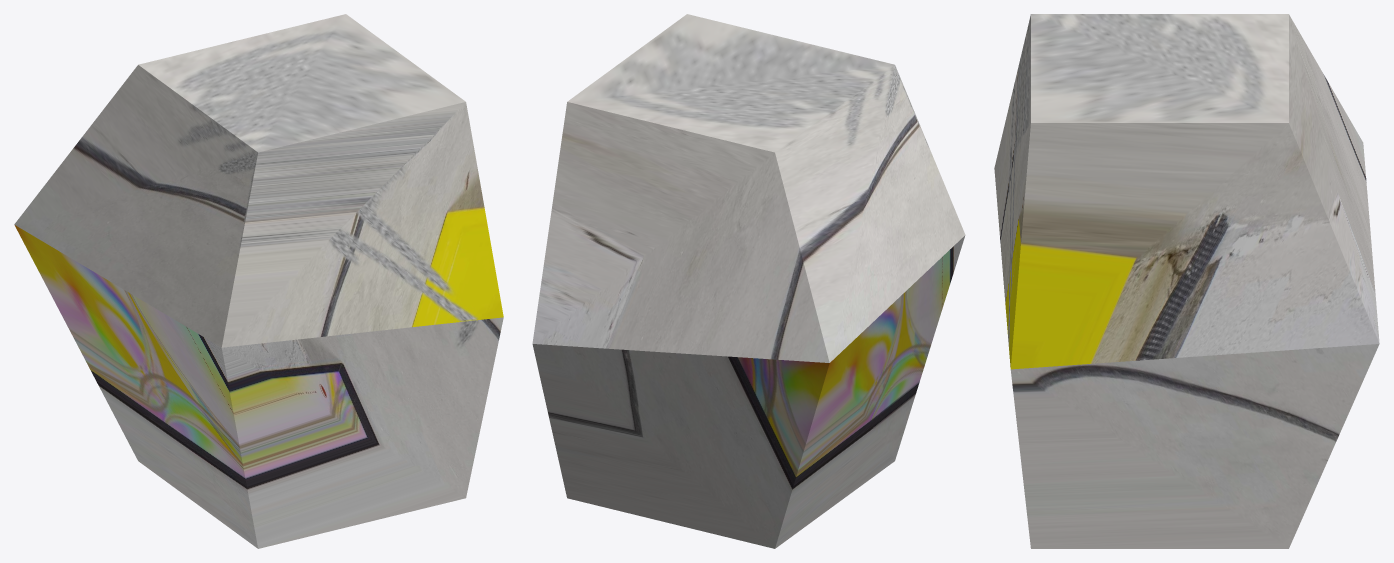
Rendered from cubo.glb.
3 views of the same model, side by side, from view 1: azimuth 30°, elevation 25°; view 2: azimuth 150°, elevation 25°; view 3: azimuth 270°, elevation 25° (orthographic). The views are drawn at different scales.
Parts seen in each view (by area): view 1: Cube; view 2: Cube; view 3: Cube.
Part boxes in pixels (bbox=[...]): Cube: bbox=[14, 14, 503, 548]; Cube: bbox=[532, 14, 965, 548]; Cube: bbox=[994, 14, 1379, 548].
Bounding box in the file's own units: 3.13 × 3.64 × 2.99.
Materials: 1 (1 with a texture image).
